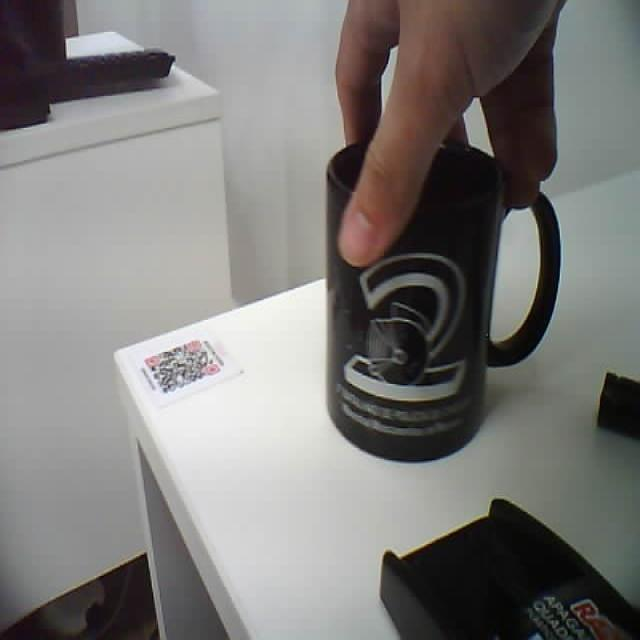caneca: (327, 141, 560, 460)
